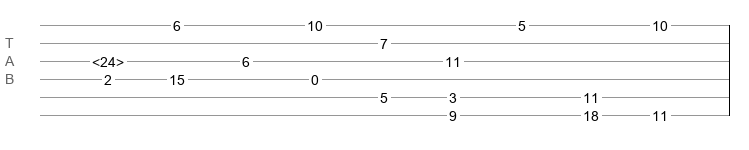0: (311, 72, 319, 82)
10: (307, 18, 323, 28), (652, 18, 668, 28)
11: (445, 54, 461, 64), (583, 90, 599, 100), (652, 108, 668, 118)
15: (169, 72, 185, 82)
18: (583, 108, 599, 118)
2: (104, 72, 112, 82)
3: (449, 90, 457, 100)
5: (380, 90, 388, 100), (518, 18, 526, 28)
6: (173, 18, 181, 28), (242, 54, 250, 64)
7: (380, 36, 388, 46)
9: (449, 108, 457, 118)
harmonic: (92, 54, 124, 64)
